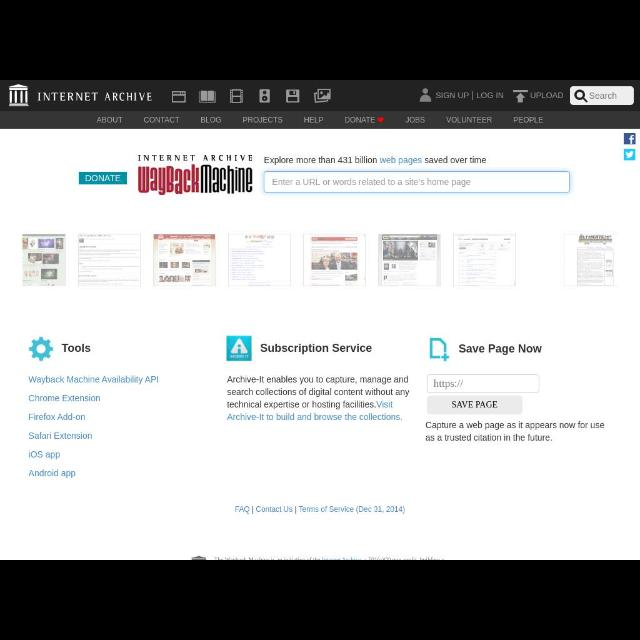icon: (28, 336, 54, 362), (428, 337, 449, 361), (314, 88, 331, 104), (228, 88, 244, 104), (198, 90, 216, 104), (512, 90, 528, 104), (286, 89, 300, 103), (259, 88, 271, 104), (172, 91, 186, 103), (574, 90, 588, 102), (420, 88, 432, 102)
image: (136, 154, 254, 196), (8, 83, 152, 107), (303, 234, 367, 286), (378, 234, 442, 286), (78, 234, 140, 286), (229, 234, 291, 286), (454, 234, 516, 286), (153, 236, 214, 286), (564, 233, 618, 285), (23, 234, 67, 286), (227, 336, 251, 362), (624, 148, 636, 160), (624, 134, 636, 144), (378, 117, 384, 123)
input: (264, 172, 572, 194), (428, 374, 540, 394), (570, 86, 634, 105)
multitab: (1, 110, 638, 128)
text: (226, 375, 410, 421), (426, 422, 606, 442), (264, 154, 488, 166), (273, 178, 472, 188), (27, 375, 160, 385), (260, 343, 372, 353), (458, 343, 542, 355), (299, 506, 407, 514), (28, 393, 100, 402), (28, 432, 94, 441), (28, 412, 86, 422), (28, 469, 76, 478), (446, 116, 492, 124), (452, 400, 498, 408), (28, 448, 61, 459), (243, 116, 283, 124), (432, 380, 463, 390), (143, 116, 179, 124), (85, 174, 121, 182), (61, 343, 91, 352), (513, 116, 545, 124), (345, 116, 375, 124), (476, 91, 504, 99), (590, 92, 618, 100), (255, 506, 292, 512), (96, 116, 122, 124), (530, 92, 564, 98), (436, 92, 468, 98), (200, 116, 222, 124), (404, 116, 426, 124), (304, 116, 322, 124), (234, 506, 250, 514)
textbutton: (427, 396, 523, 414), (79, 172, 127, 184)
toolbar: (1, 80, 640, 110)
